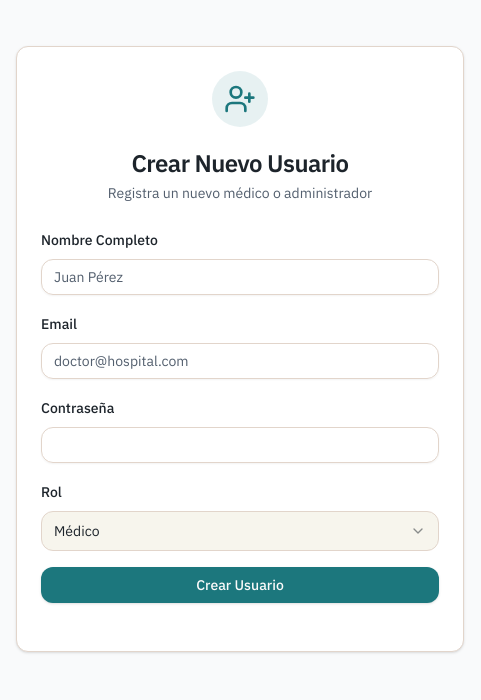
Test case: CreateUserPage › displays error message when registration fails
Type "Existing User" into the field labelled "Nombre Completo" at point(240, 277), box [41,259,439,295]
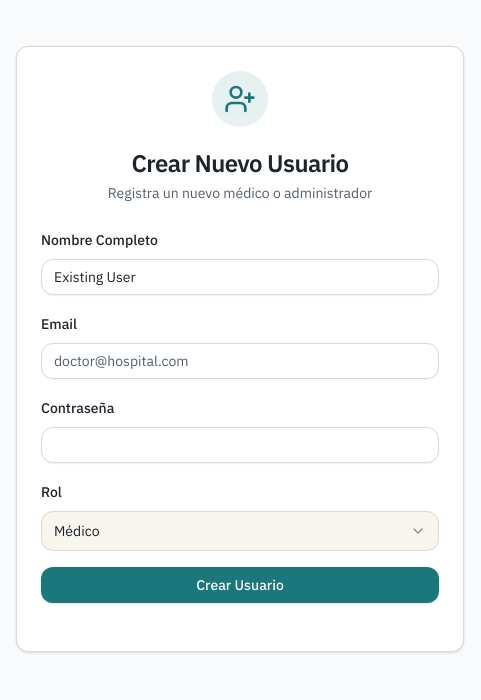
Type "existing@example.com" into the field labelled "Email" at point(240, 361), box [41,343,439,379]
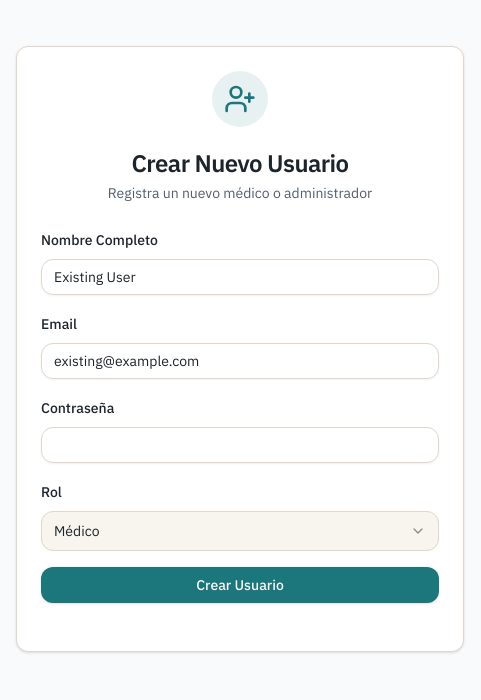
Type "password123" into the password field labelled "Contraseña" at point(240, 445), box [41,427,439,463]
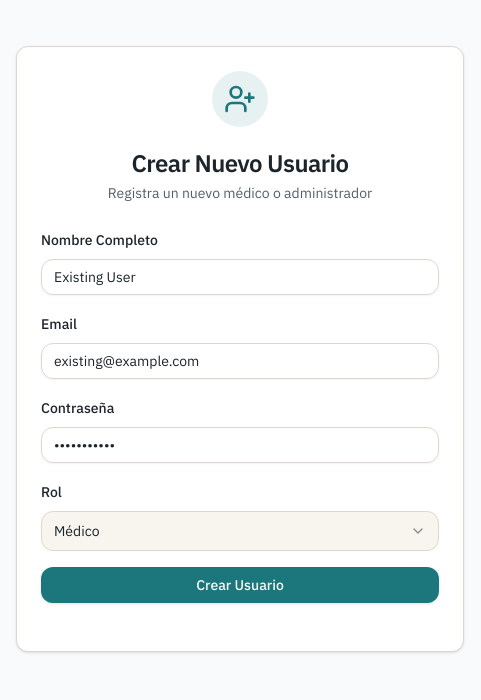
Click the button "Crear Usuario" at point(240, 585), box [41,567,439,603]
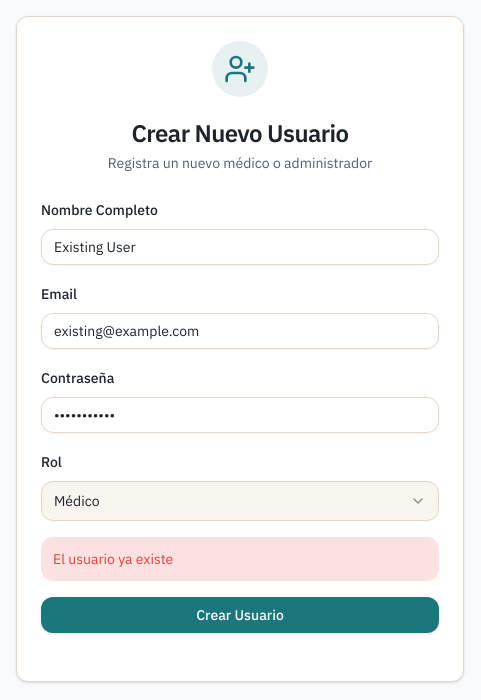
Result: the text "El usuario ya existe" is shown at [41,537,439,581]
